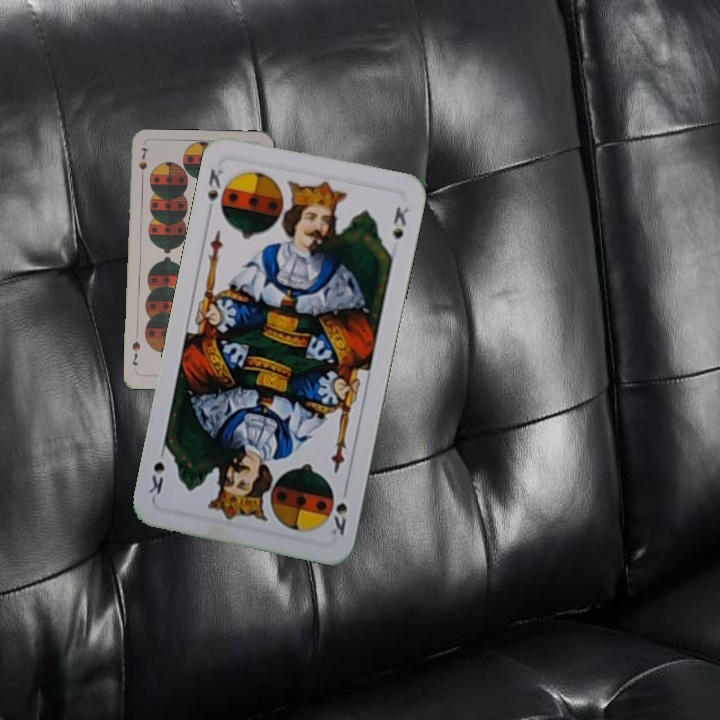S7: (135, 144, 149, 184)
SK: (325, 481, 351, 538), (203, 164, 225, 204)
